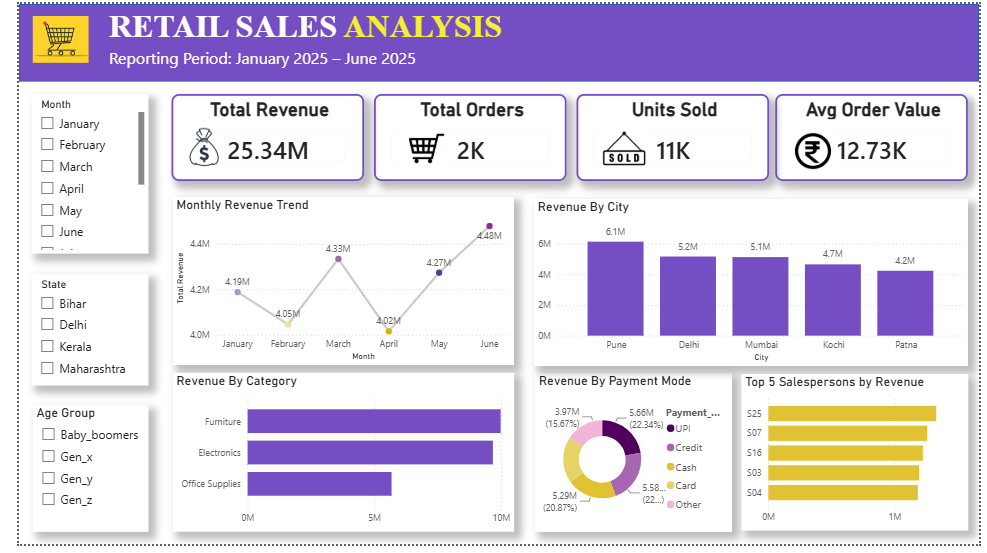

The dashboard page shown, as its layout file describes it:
{"tool":"powerbi","page":{"name":"Executive Summary","canvas":[1280,720],"ordinal":0},"visuals":[{"type":"shape","box":[0,0,1280,103.3],"z":0},{"type":"textbox","box":[115,0,607.5,70],"z":1000},{"type":"image","box":[18.2,0,74.7,94.7],"z":2000},{"type":"textbox","box":[115.6,52.2,477.8,56.7],"z":3000},{"type":"group","id":"g1","title":"Group 2","box":[204,120,1062,116],"z":4000},{"type":"group","id":"g2","title":"Group 1","box":[204,120,257.1,116],"z":4000,"group":"g1"},{"type":"cardVisual","title":"Total Revenue","fields":{"Data":["da_project orders.Total Revenue"]},"box":[204,120,257.1,116],"z":4000,"group":"g2"},{"type":"cardVisual","title":"Total Orders","fields":{"Data":["da_project orders.Toatal ordes"]},"box":[473.9,120,257.1,116],"z":4000,"group":"g3"},{"type":"cardVisual","title":"Units Sold","fields":{"Data":["da_project orders.Total Quantity Sold"]},"box":[743.7,120,257.1,116],"z":4000,"group":"g4"},{"type":"cardVisual","title":"Avg Order Value","fields":{"Data":["da_project orders.Avg Order Value"]},"box":[1008.9,120,257.1,116],"z":4000,"group":"g5"},{"type":"image","box":[213.1,160.7,63.6,58.3],"z":4501,"group":"g2"},{"type":"image","box":[508.5,163.3,63.3,58.9],"z":4501,"group":"g3"},{"type":"image","box":[775.1,163.3,62.2,58.9],"z":4501,"group":"g4"},{"type":"image","box":[1025.6,164.4,64.4,57.8],"z":4501,"group":"g5"},{"type":"group","id":"g3","title":"Group 1","box":[473.9,120,257.1,116],"z":5000,"group":"g1"},{"type":"lineChart","title":"Monthly Revenue Trend","fields":{"Category":["da_project orders.order_date.Variation.Date Hierarchy.Month"],"Y":["da_project orders.Total Revenue"]},"box":[205.6,256.7,454.4,224.4],"z":5000},{"type":"group","id":"g4","title":"Group 1","box":[743.7,120,257.1,116],"z":6000,"group":"g1"},{"type":"columnChart","title":"Revenue By City","fields":{"Y":["da_project orders.Total Revenue"],"Category":["da_project customer.City"]},"box":[686.7,260,578.9,222.2],"z":6000},{"type":"group","id":"g5","title":"Group 1","box":[1008.9,120,257.1,116],"z":7000,"group":"g1"},{"type":"clusteredBarChart","title":"Revenue By Category","fields":{"Y":["da_project orders.Total Revenue"],"Category":["da_project product.category"]},"box":[205,491.7,455,211.7],"z":7000},{"type":"donutChart","title":"Revenue By Payment Mode","fields":{"Category":["da_project orders.Payment_mode"],"Y":["da_project orders.Total Revenue"]},"box":[688,492,262,212],"z":8000},{"type":"barChart","title":"Top 5 Salespersons by Revenue","fields":{"Category":["da_project sales_persons.sales_persons_id"],"Y":["da_project orders.Total Revenue"]},"box":[962.5,493.8,302.5,208.8],"z":9000},{"type":"slicer","fields":{"Values":["da_project orders.order_date.Variation.Date Hierarchy.Month"]},"box":[17.1,120,155.7,212.9],"z":10000},{"type":"slicer","fields":{"Values":["da_project customer.State"]},"box":[17.1,360,155.7,148.6],"z":11000},{"type":"slicer","title":"Age Group","fields":{"Values":["da_project customer.age_group"]},"box":[18.6,534.3,154.3,168.6],"z":12000}]}

Visuals, with their boxes in screenshot pixels (x1, y1, x2, y2), scaled from the page's 1280x720 canvas onto the 987x553 screenshot:
shape: detection(0, 0, 986, 79)
textbox: detection(89, 0, 557, 54)
image: detection(14, 0, 72, 73)
textbox: detection(89, 40, 458, 84)
"Group 2" group: detection(157, 92, 976, 181)
"Group 1" group: detection(157, 92, 356, 181)
"Total Revenue" cardVisual: detection(157, 92, 356, 181)
"Total Orders" cardVisual: detection(365, 92, 564, 181)
"Units Sold" cardVisual: detection(573, 92, 772, 181)
"Avg Order Value" cardVisual: detection(778, 92, 976, 181)
image: detection(164, 123, 213, 168)
image: detection(392, 125, 441, 171)
image: detection(598, 125, 646, 171)
image: detection(791, 126, 840, 171)
"Group 1" group: detection(365, 92, 564, 181)
"Monthly Revenue Trend" lineChart: detection(159, 197, 509, 370)
"Group 1" group: detection(573, 92, 772, 181)
"Revenue By City" columnChart: detection(530, 200, 976, 370)
"Group 1" group: detection(778, 92, 976, 181)
"Revenue By Category" clusteredBarChart: detection(158, 378, 509, 540)
"Revenue By Payment Mode" donutChart: detection(531, 378, 733, 541)
"Top 5 Salespersons by Revenue" barChart: detection(742, 379, 975, 540)
slicer - da_project orders.order_date.Variation.Date Hierarchy.Month: detection(13, 92, 133, 256)
slicer - da_project customer.State: detection(13, 276, 133, 391)
"Age Group" slicer: detection(14, 410, 133, 540)
